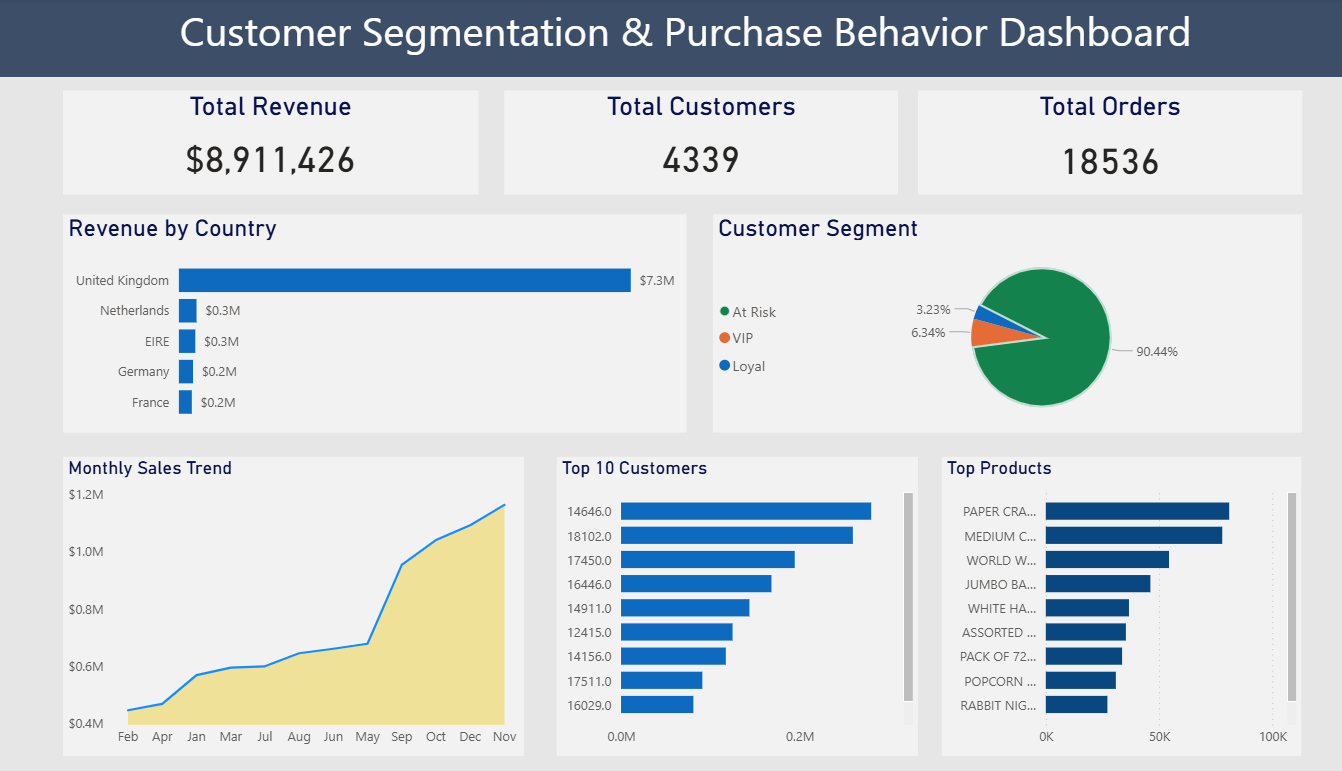

The page's visual inventory and layout, read from the dashboard file:
{"tool":"powerbi","page":{"name":"Page 1","canvas":[1280,720],"ordinal":0},"visuals":[{"type":"textbox","box":[0,0,1279.4,74],"z":0},{"type":"card","title":"Total Revenue","fields":{"Values":["online_retail.Total Revenue"]},"box":[60.6,86.3,386.1,96.9],"z":1000},{"type":"card","title":"Total Customers","fields":{"Values":["rfm_table.Total Customers"]},"box":[470.9,86.3,366.4,96.9],"z":2000},{"type":"card","title":"Total Orders","fields":{"Values":["online_retail.Total Orders"]},"box":[855.5,86.3,357.4,96.9],"z":3000},{"type":"clusteredBarChart","title":"Revenue by Country","fields":{"Category":["online_retail.Country"],"Y":["online_retail.Total Revenue"]},"box":[60.6,201.4,579.9,202.9],"z":4000},{"type":"pieChart","title":"Customer Segment","fields":{"Category":["rfm_table.CustomerSegment"],"Y":["CountNonNull(rfm_table.CustomerID)"]},"box":[664.7,201.4,548.1,202.9],"z":5000},{"type":"lineChart","title":"Monthly Sales Trend","fields":{"Y":["online_retail.Total Revenue"],"Category":["online_retail.MonthName"]},"box":[60.6,427,428.5,278.6],"z":6000},{"type":"clusteredBarChart","title":"Top 10 Customers","fields":{"Category":["rfm_table.CustomerID"],"Y":["Sum(rfm_table.MonetaryValue)"]},"box":[519.4,427,336.2,278.6],"z":7000},{"type":"clusteredBarChart","title":"Top Products","fields":{"Category":["online_retail.Description"],"Y":["Sum(online_retail.Quantity)"]},"box":[878.2,427,334.6,278.6],"z":8000}]}

Visuals, with their boxes in screenshot pixels (x1, y1, x2, y2), scaled from the page's 1280x720 canvas onto the 1342x771 screenshot:
textbox: x1=0, y1=0, x2=1341, y2=79
"Total Revenue" card: x1=64, y1=92, x2=468, y2=196
"Total Customers" card: x1=494, y1=92, x2=878, y2=196
"Total Orders" card: x1=897, y1=92, x2=1272, y2=196
"Revenue by Country" clusteredBarChart: x1=64, y1=216, x2=672, y2=433
"Customer Segment" pieChart: x1=697, y1=216, x2=1272, y2=433
"Monthly Sales Trend" lineChart: x1=64, y1=457, x2=513, y2=756
"Top 10 Customers" clusteredBarChart: x1=545, y1=457, x2=897, y2=756
"Top Products" clusteredBarChart: x1=921, y1=457, x2=1272, y2=756
